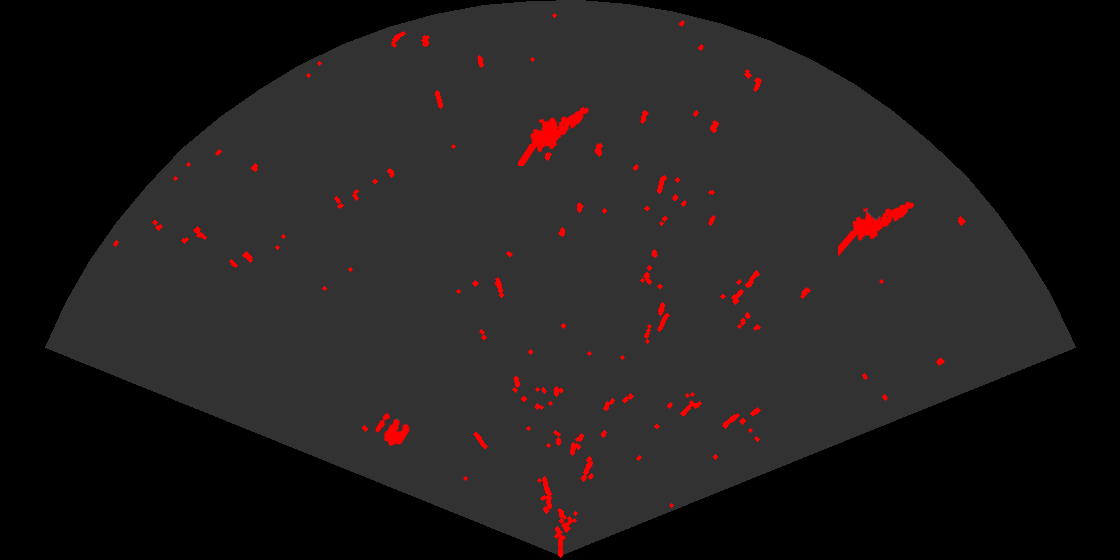ball: (374, 411, 411, 448)
frogman: (518, 105, 591, 166), (838, 200, 916, 257)
